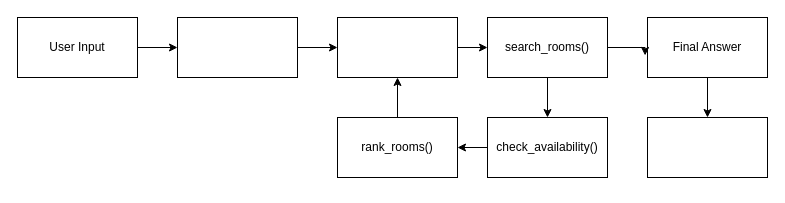
The diagram is 785 pixels wide and 203 high, and some of its shapes have lost their labels. The shapes that lost their labels are listed below. From the top down, each one's centre as x and y in pixels, then its label:
At (237,47): "Requirement Extractor".
At (397,47): "ReAct Agent Loop".
At (707,147): "User".
